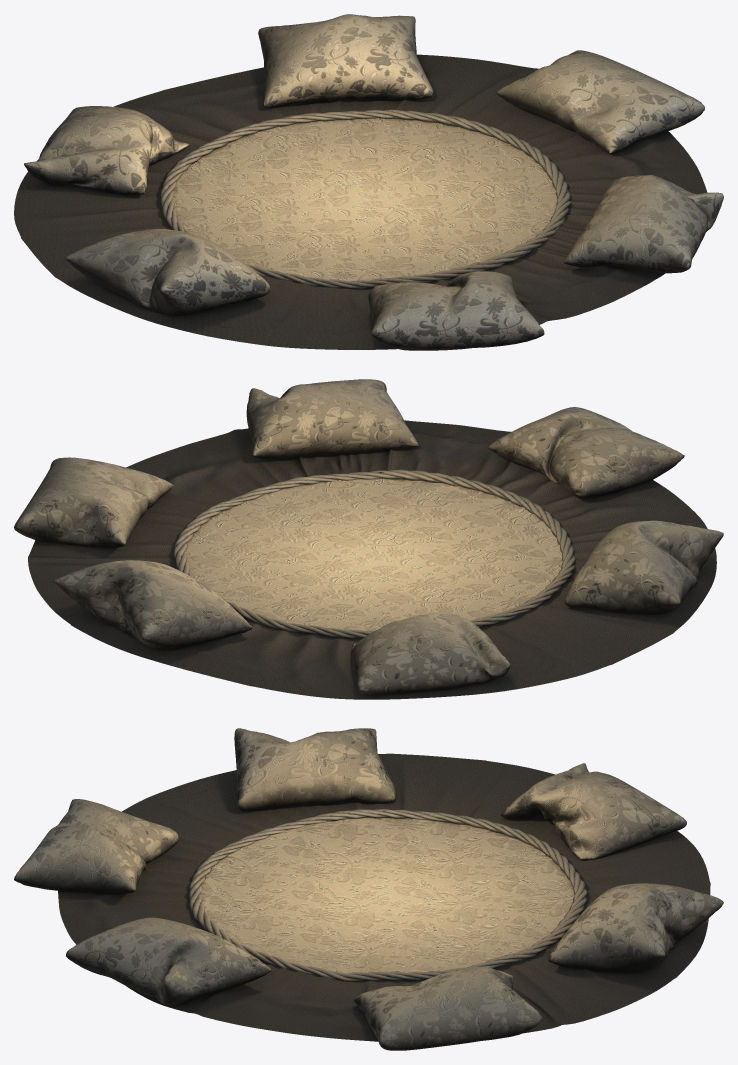
Rendered from rug.glb.
The picture shows the model from 3 angles, top to bottom: view 1: azimuth 30°, elevation 25°; view 2: azimuth 150°, elevation 25°; view 3: azimuth 270°, elevation 25°; orthographic projection. The views are drawn at different scales.
Visible parts, largest first — view 1: tapis marv_1, Coussins_2, tapis marv.001_4; view 2: tapis marv_1, Coussins_2, tapis marv.001_4; view 3: tapis marv_1, Coussins_2, tapis marv.001_4.
Boxes of the visible parts, left/top/right/bottom form: tapis marv_1: left=14, top=54, right=707, bottom=349; Coussins_2: left=24, top=14, right=723, bottom=350; tapis marv.001_4: left=160, top=109, right=571, bottom=288; tapis marv_1: left=28, top=420, right=716, bottom=699; Coussins_2: left=14, top=379, right=723, bottom=694; tapis marv.001_4: left=173, top=469, right=575, bottom=638; tapis marv_1: left=58, top=753, right=710, bottom=1041; Coussins_2: left=14, top=728, right=723, bottom=1050; tapis marv.001_4: left=188, top=809, right=587, bottom=981.
Bounding box in the file's own units: 6.43 × 0.5973 × 6.32.
Materials: 10 (10 with a texture image).
